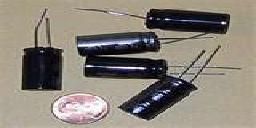Electrolytic-Capacitor: (78, 51, 242, 83), (72, 6, 230, 35), (20, 6, 63, 92), (72, 32, 220, 54)
